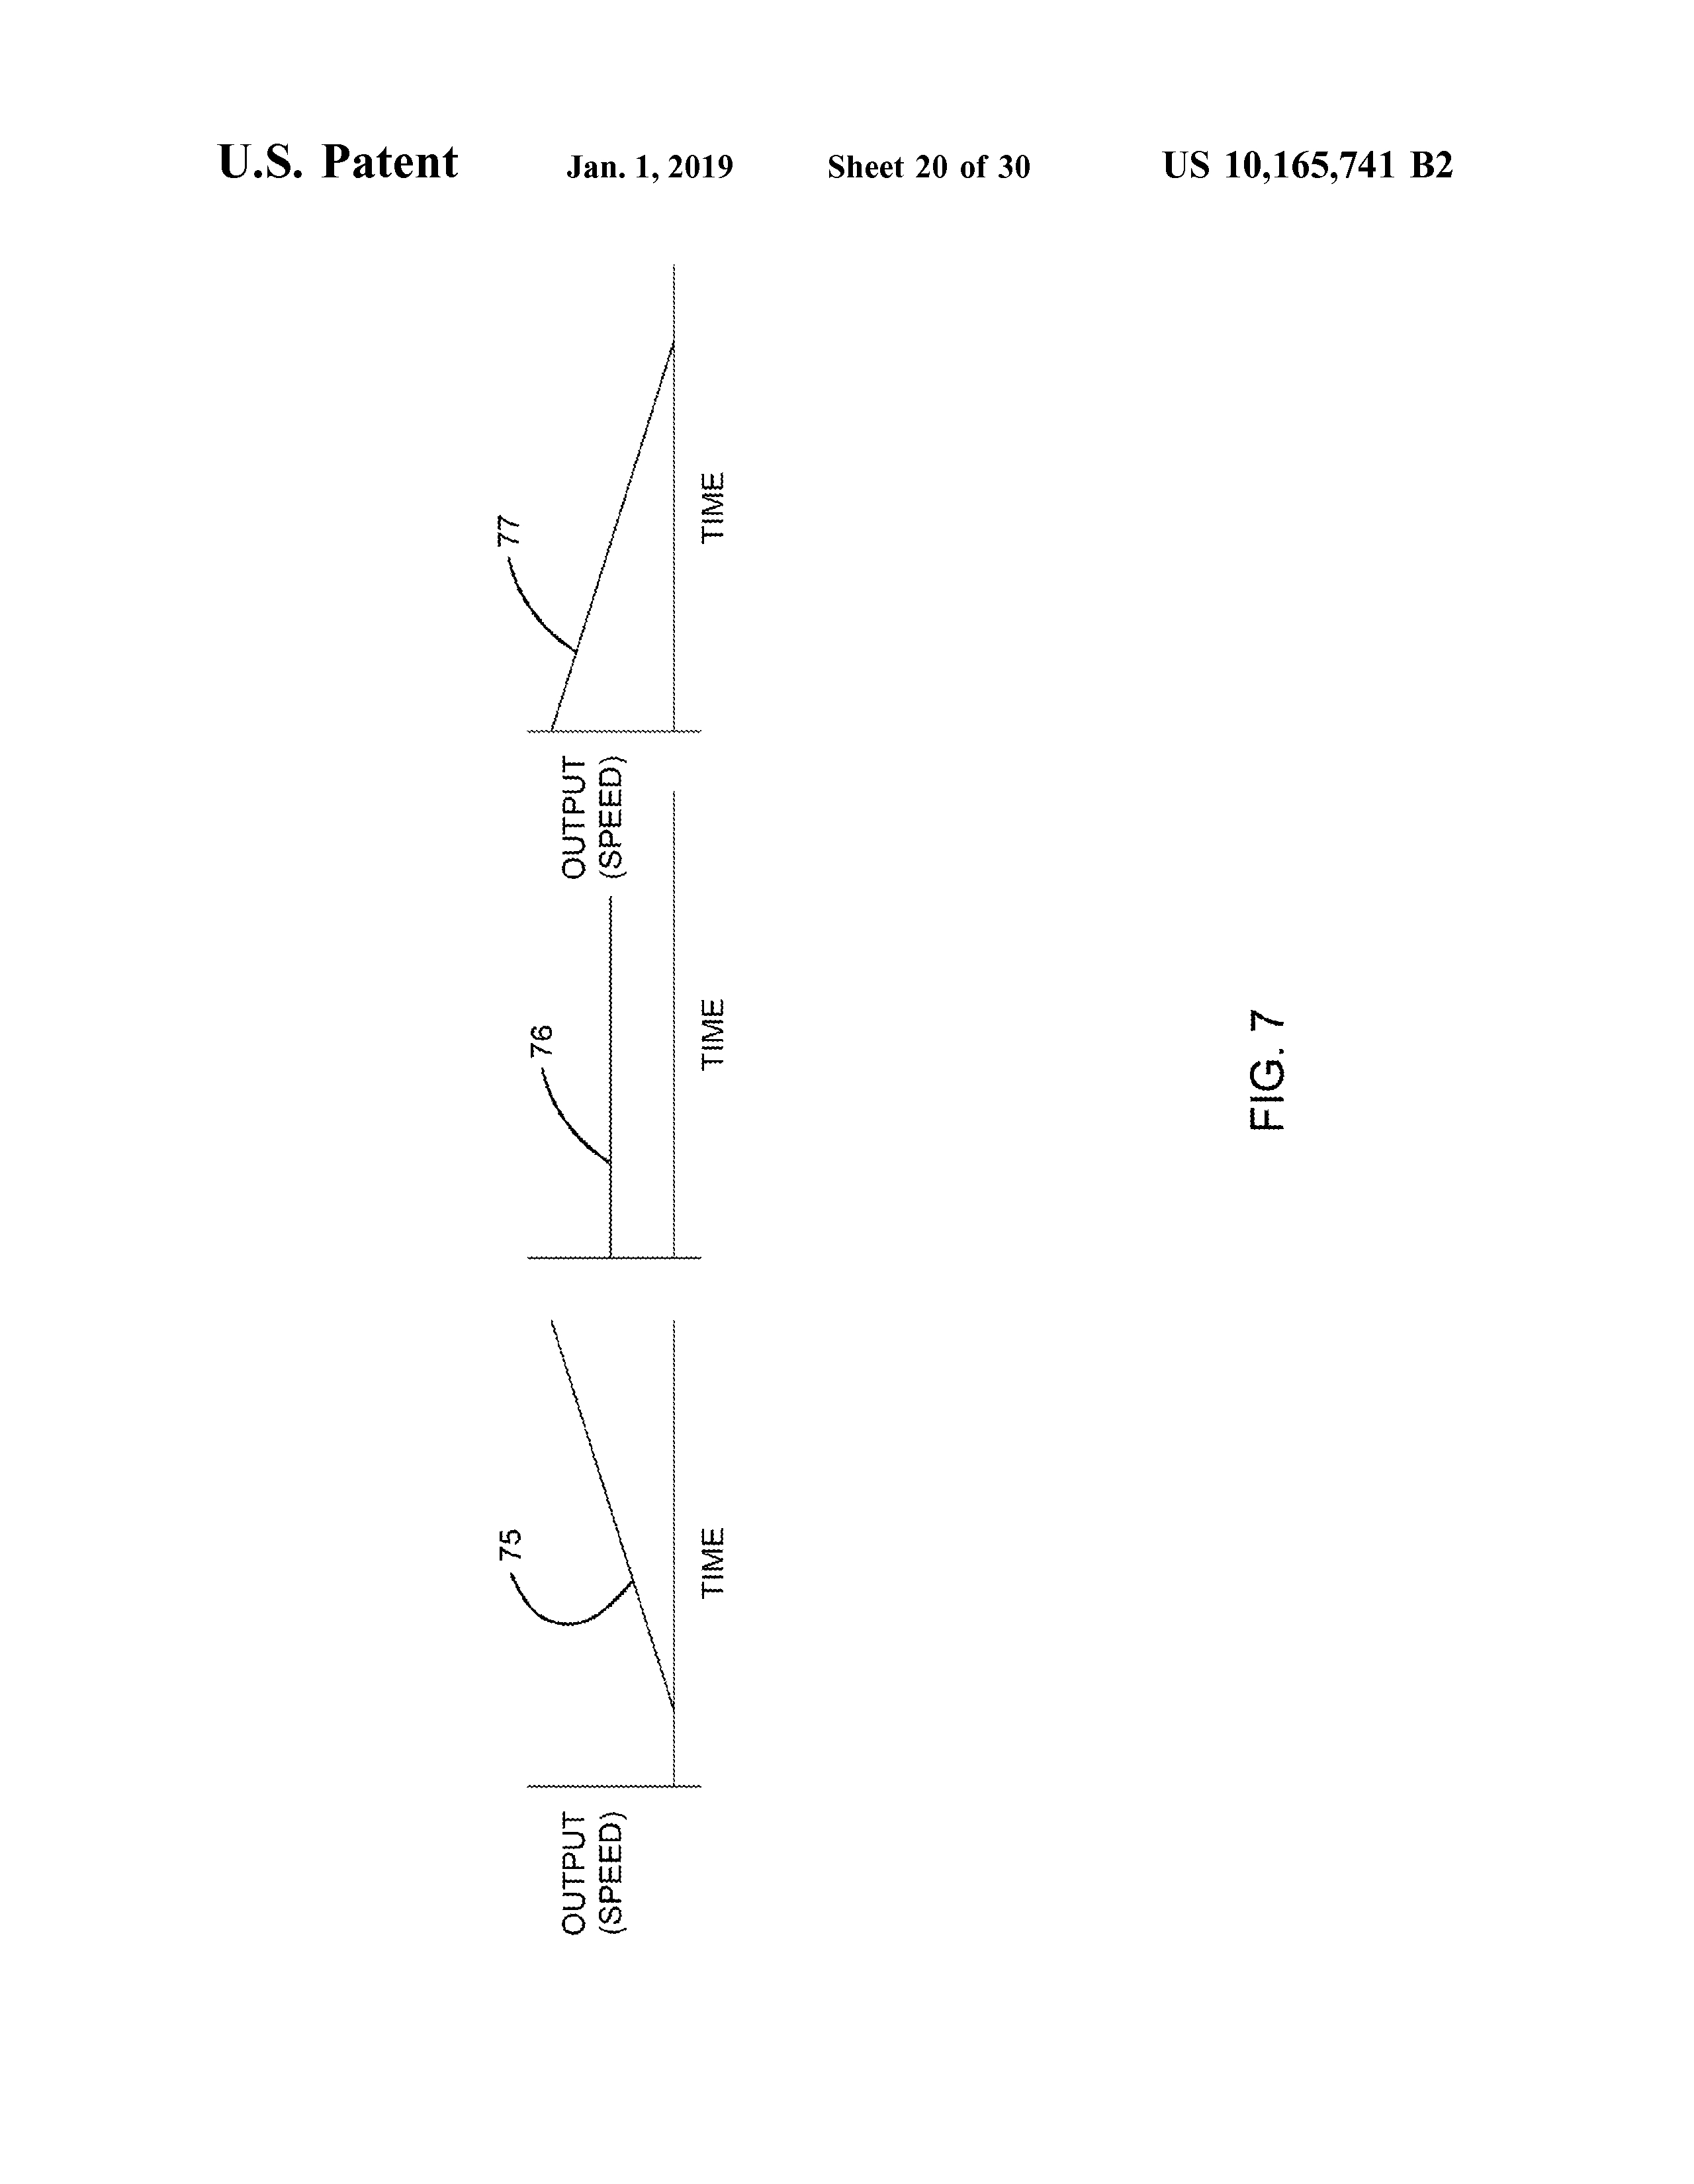patent image: (451, 242, 1323, 2073)
